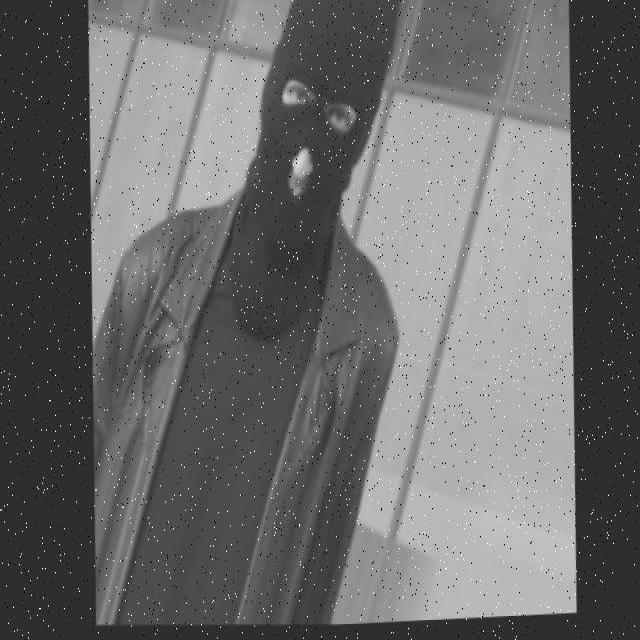6_pasamontana: (230, 0, 401, 339)
